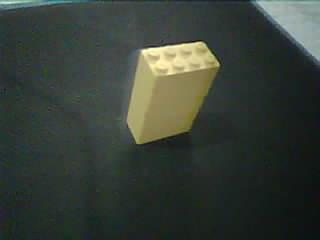lego: (123, 41, 220, 146)
